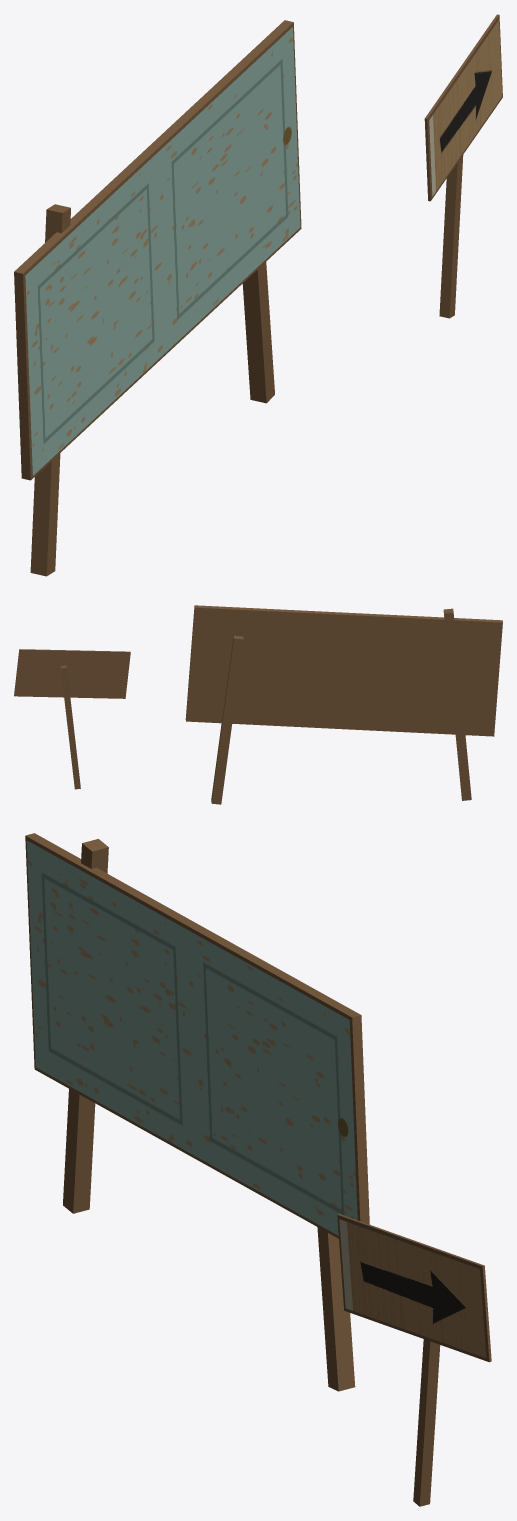
File: lwf_gate_sign_tier1_v1.glb
3 views of the same model, one above another, from view 1: azimuth 30°, elevation 25°; view 2: azimuth 150°, elevation 25°; view 3: azimuth 270°, elevation 25° (orthographic). The views are drawn at different scales.
Visible parts, largest first — view 1: GateSignTier1_Board, GateSignTier1; view 2: GateSignTier1; view 3: GateSignTier1_Board, GateSignTier1.
Boxes of the visible parts, left/top/right/bottom form: GateSignTier1_Board: left=25, top=20, right=502, bottom=475; GateSignTier1: left=14, top=14, right=502, bottom=576; GateSignTier1: left=14, top=605, right=502, bottom=804; GateSignTier1_Board: left=26, top=840, right=486, bottom=1357; GateSignTier1: left=25, top=833, right=491, bottom=1506.
Bounding box in the file's own units: 3.55 × 1.76 × 1.91.
Materials: 3 (3 with a texture image).
